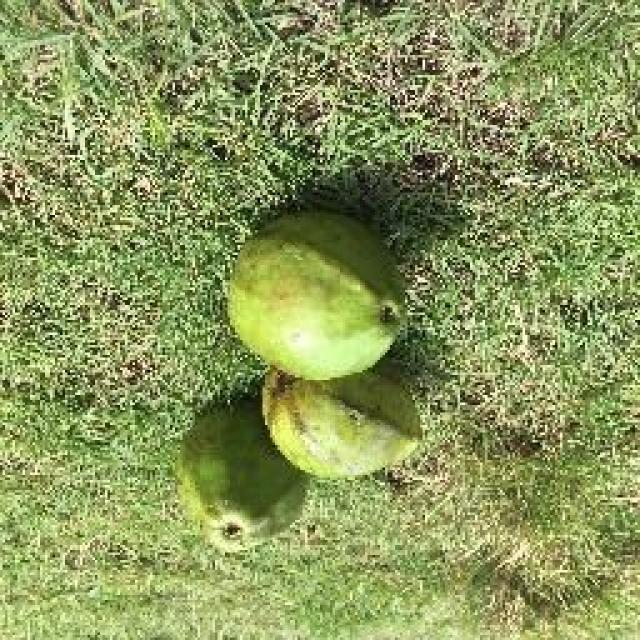Good_Guava: (228, 212, 402, 385), (175, 395, 312, 555)
